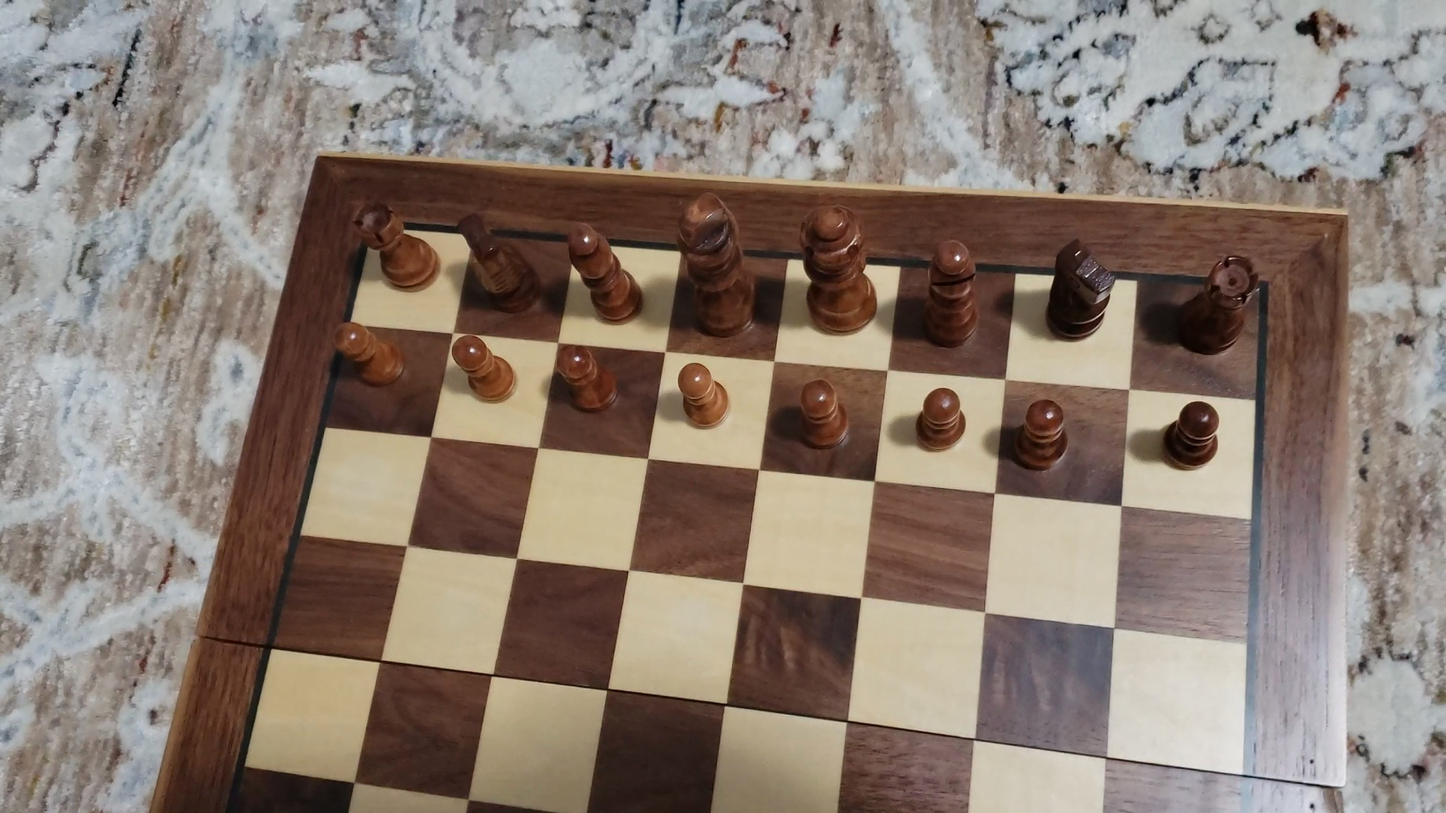black-bishop: (567, 218, 642, 325), (921, 235, 979, 349)
black-king: (673, 187, 758, 339)
black-knight: (455, 211, 541, 313), (1043, 234, 1117, 343)
black-pawn: (329, 318, 408, 390), (552, 340, 622, 415), (1159, 397, 1225, 474), (1012, 395, 1072, 475), (450, 332, 516, 404), (794, 376, 852, 453), (914, 384, 968, 456), (676, 360, 730, 430)
black-queen: (796, 199, 882, 335)
black-rook: (1172, 253, 1261, 357), (350, 198, 440, 292)
